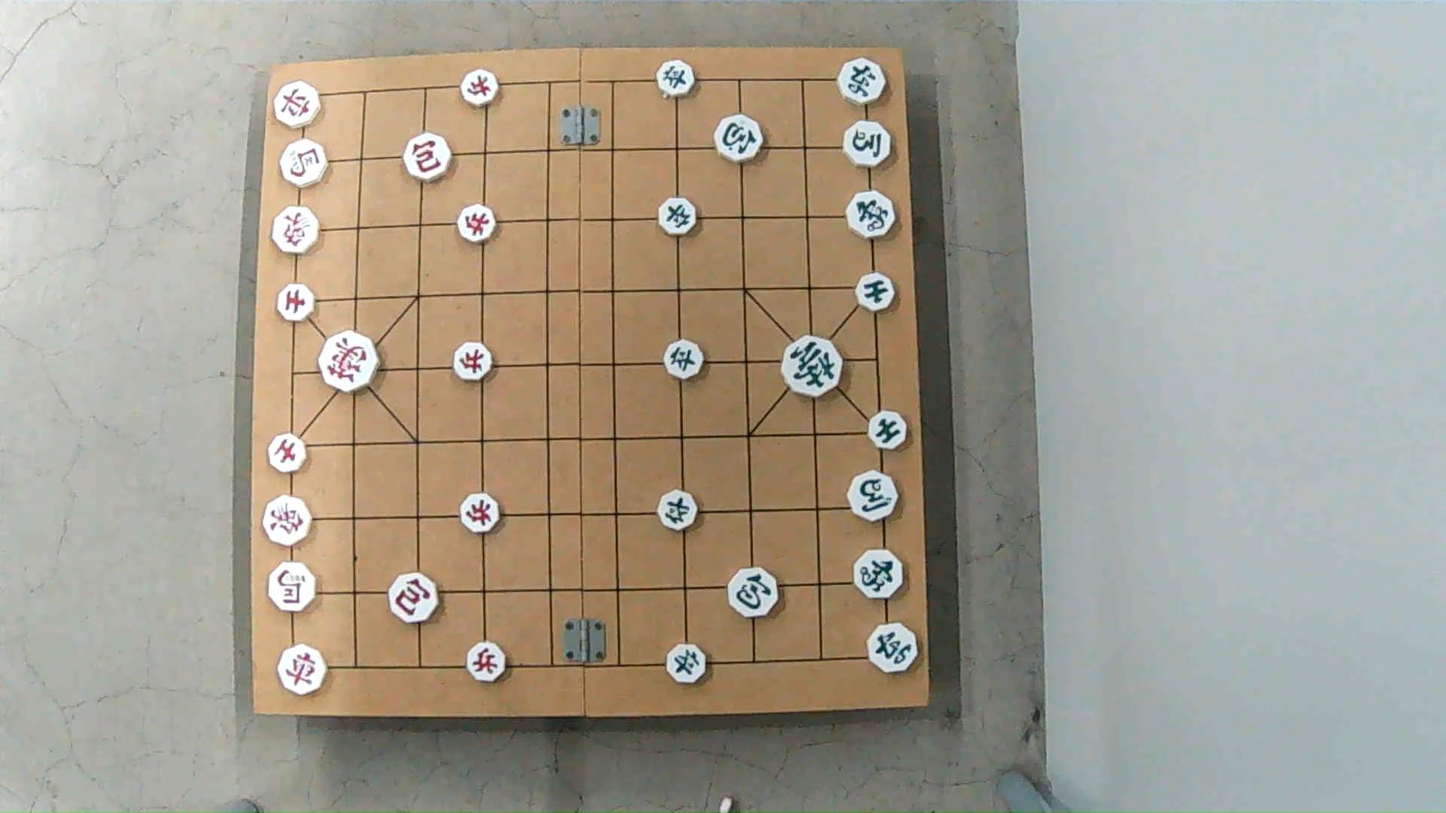cha_green: (867, 626, 922, 674), (837, 62, 888, 105)
cha_red: (273, 81, 324, 129), (275, 647, 328, 693)
jol_green: (667, 647, 710, 684), (657, 492, 700, 528), (656, 199, 699, 234), (662, 344, 704, 379), (656, 64, 698, 98)
jol_red: (465, 646, 508, 683), (459, 496, 503, 532), (452, 346, 496, 382), (456, 205, 499, 239), (459, 71, 502, 103)
ma_green: (847, 473, 901, 519), (844, 122, 895, 166)
ma_red: (280, 142, 331, 187), (271, 565, 321, 610)
po_green: (728, 569, 781, 614), (714, 117, 765, 160)
po_red: (389, 575, 442, 623), (401, 136, 450, 178)
sa_green: (855, 273, 897, 312), (868, 411, 912, 447)
sa_red: (267, 434, 310, 470), (278, 283, 316, 319)
sang_green: (852, 553, 904, 598), (847, 193, 899, 238)
sang_red: (264, 492, 312, 544), (270, 207, 322, 252)
wang_green: (779, 340, 844, 395)
wang_red: (319, 329, 384, 390)
